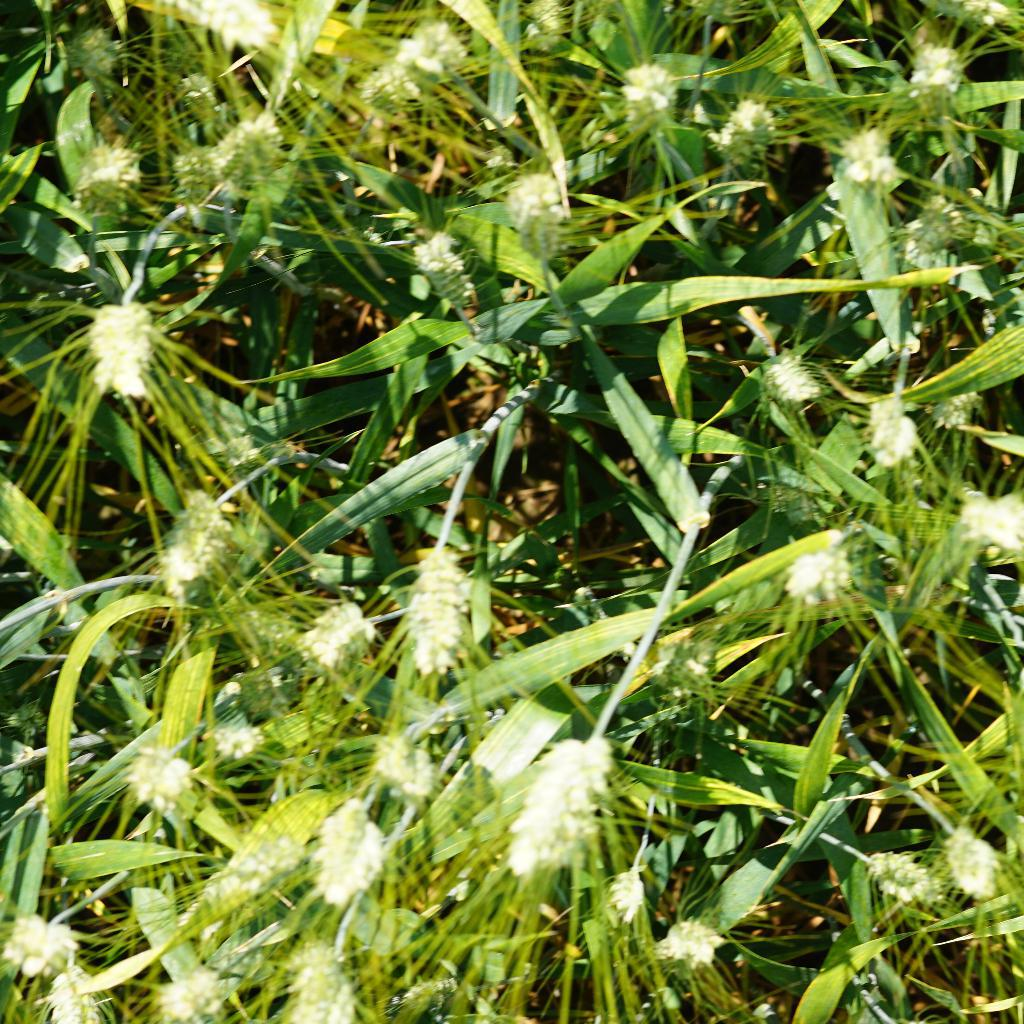0-0: (496, 712, 619, 877), (392, 524, 479, 684), (183, 826, 305, 920), (150, 484, 250, 595), (83, 281, 163, 408), (306, 785, 388, 903), (734, 469, 856, 539), (284, 922, 366, 1024), (396, 227, 485, 317), (291, 590, 378, 681), (894, 27, 978, 119), (903, 187, 989, 269), (646, 909, 744, 978), (503, 160, 585, 242), (367, 725, 449, 807), (710, 83, 788, 168), (156, 0, 291, 49), (854, 833, 941, 909), (931, 829, 1017, 901), (146, 953, 231, 1024), (67, 141, 142, 221), (0, 907, 81, 979), (215, 598, 306, 662), (609, 58, 681, 137), (130, 735, 204, 807), (784, 534, 859, 604), (40, 950, 109, 1024), (759, 339, 823, 418), (642, 647, 728, 705), (860, 391, 919, 474), (840, 124, 908, 195), (217, 123, 284, 194), (950, 490, 1024, 553), (891, 0, 1016, 37), (347, 59, 425, 118), (392, 18, 470, 77), (927, 369, 987, 443), (62, 23, 129, 84), (165, 130, 216, 204), (387, 959, 456, 1012), (208, 717, 275, 769), (606, 859, 653, 925), (174, 67, 228, 116), (215, 425, 272, 470)
